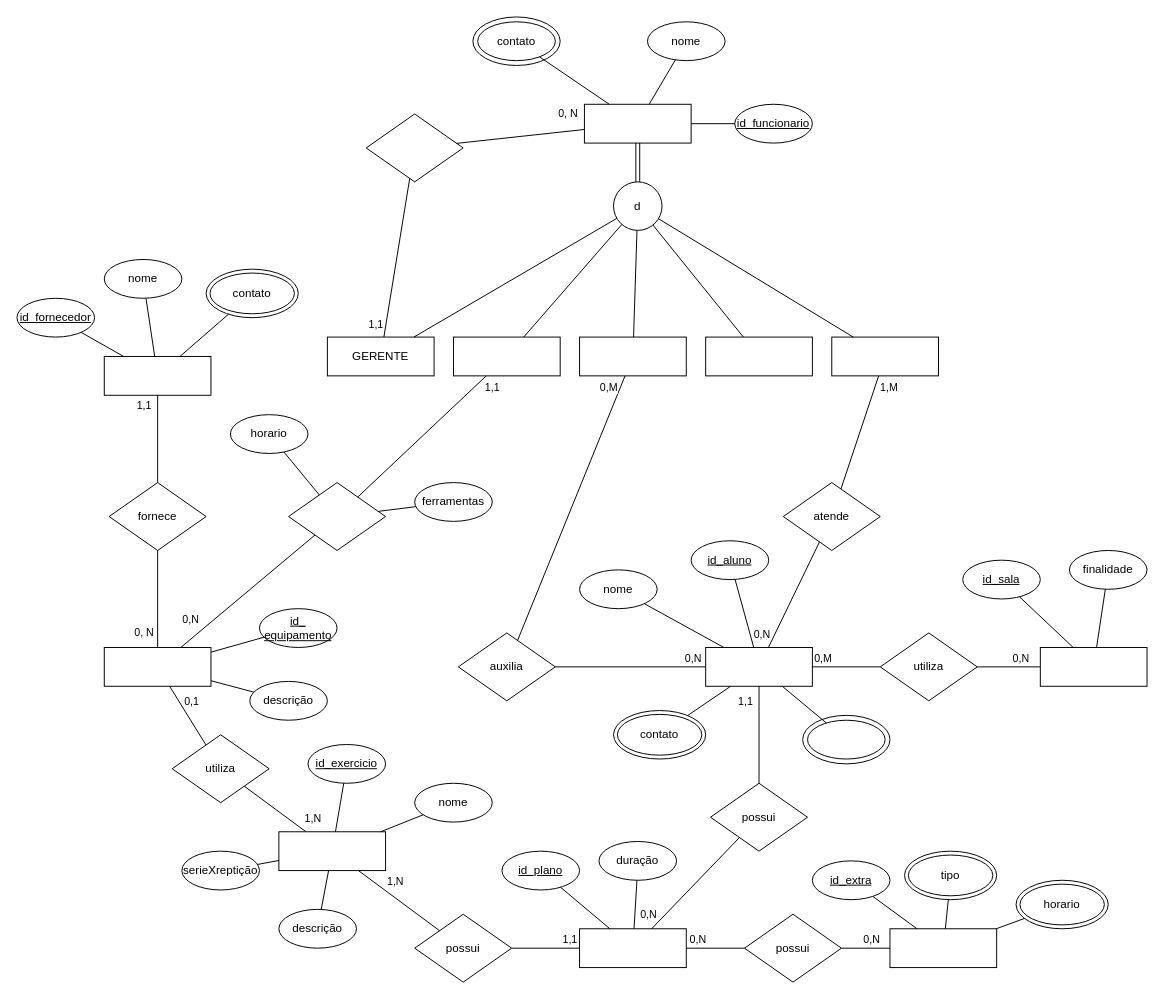
This 1164x999 diagram has some shape labels left out. Each missing label, with the centre of its shape:
"ALUNO" goes at (x=758, y=666).
"ATIVIDADE_EXTRA" goes at (x=943, y=948).
"endereço" goes at (x=846, y=739).
"EQUIPAMENTO" goes at (x=157, y=666).
"EXERCICIO" goes at (x=332, y=851).
"faz_ manutenção" goes at (x=337, y=516).
"FORNECEDOR" goes at (x=157, y=375).
"FUNCIONARIO" goes at (x=637, y=123).
"gerencia" goes at (x=414, y=147).
"PLANO_DE_ TREINO" goes at (x=632, y=948).
"RECEPCIONISTA" goes at (x=884, y=356).
"SALA" goes at (x=1093, y=666).
"SERVIÇOS_ GERAIS" goes at (x=758, y=356).
"SUPORTE" goes at (x=506, y=356).
"TREINADOR" goes at (x=632, y=356).
